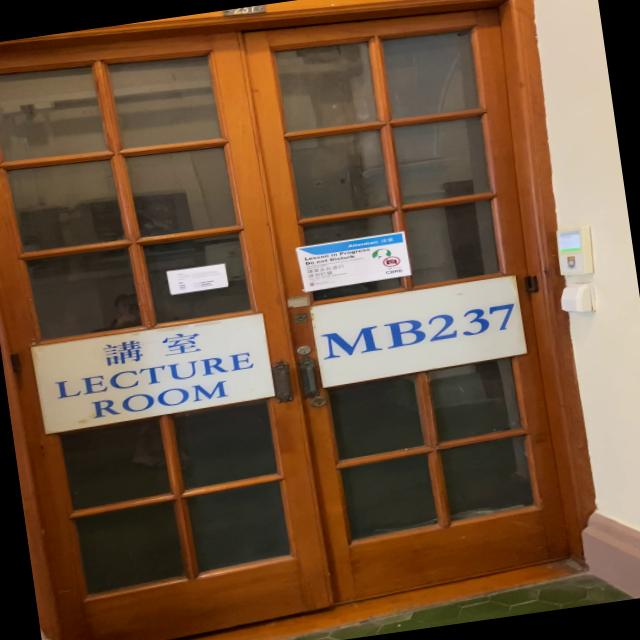room237Window: (306, 277, 528, 383)
